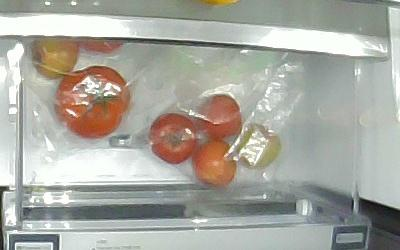tomato_vinyl: (55, 65, 128, 138), (149, 113, 196, 165), (235, 124, 284, 170), (193, 140, 238, 189), (195, 94, 242, 139), (30, 38, 78, 80), (76, 39, 124, 54)
